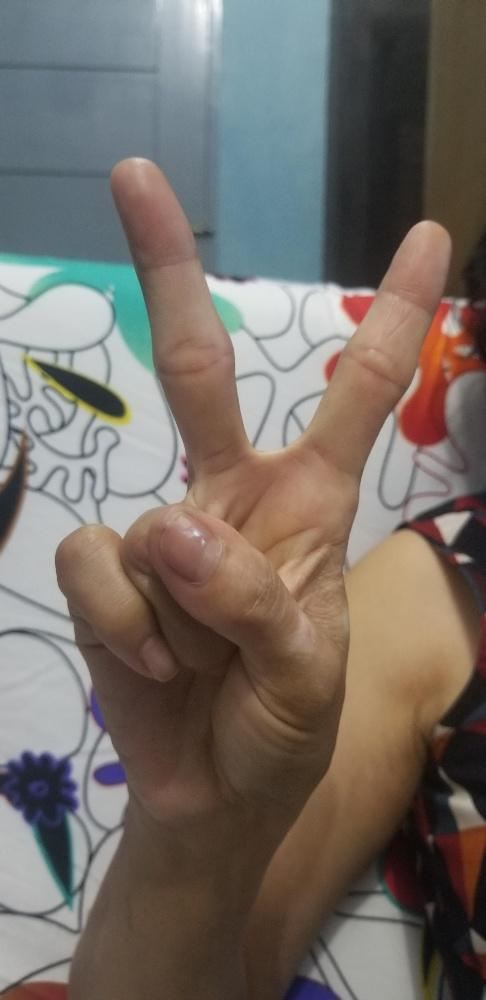v: (51, 151, 452, 817)
